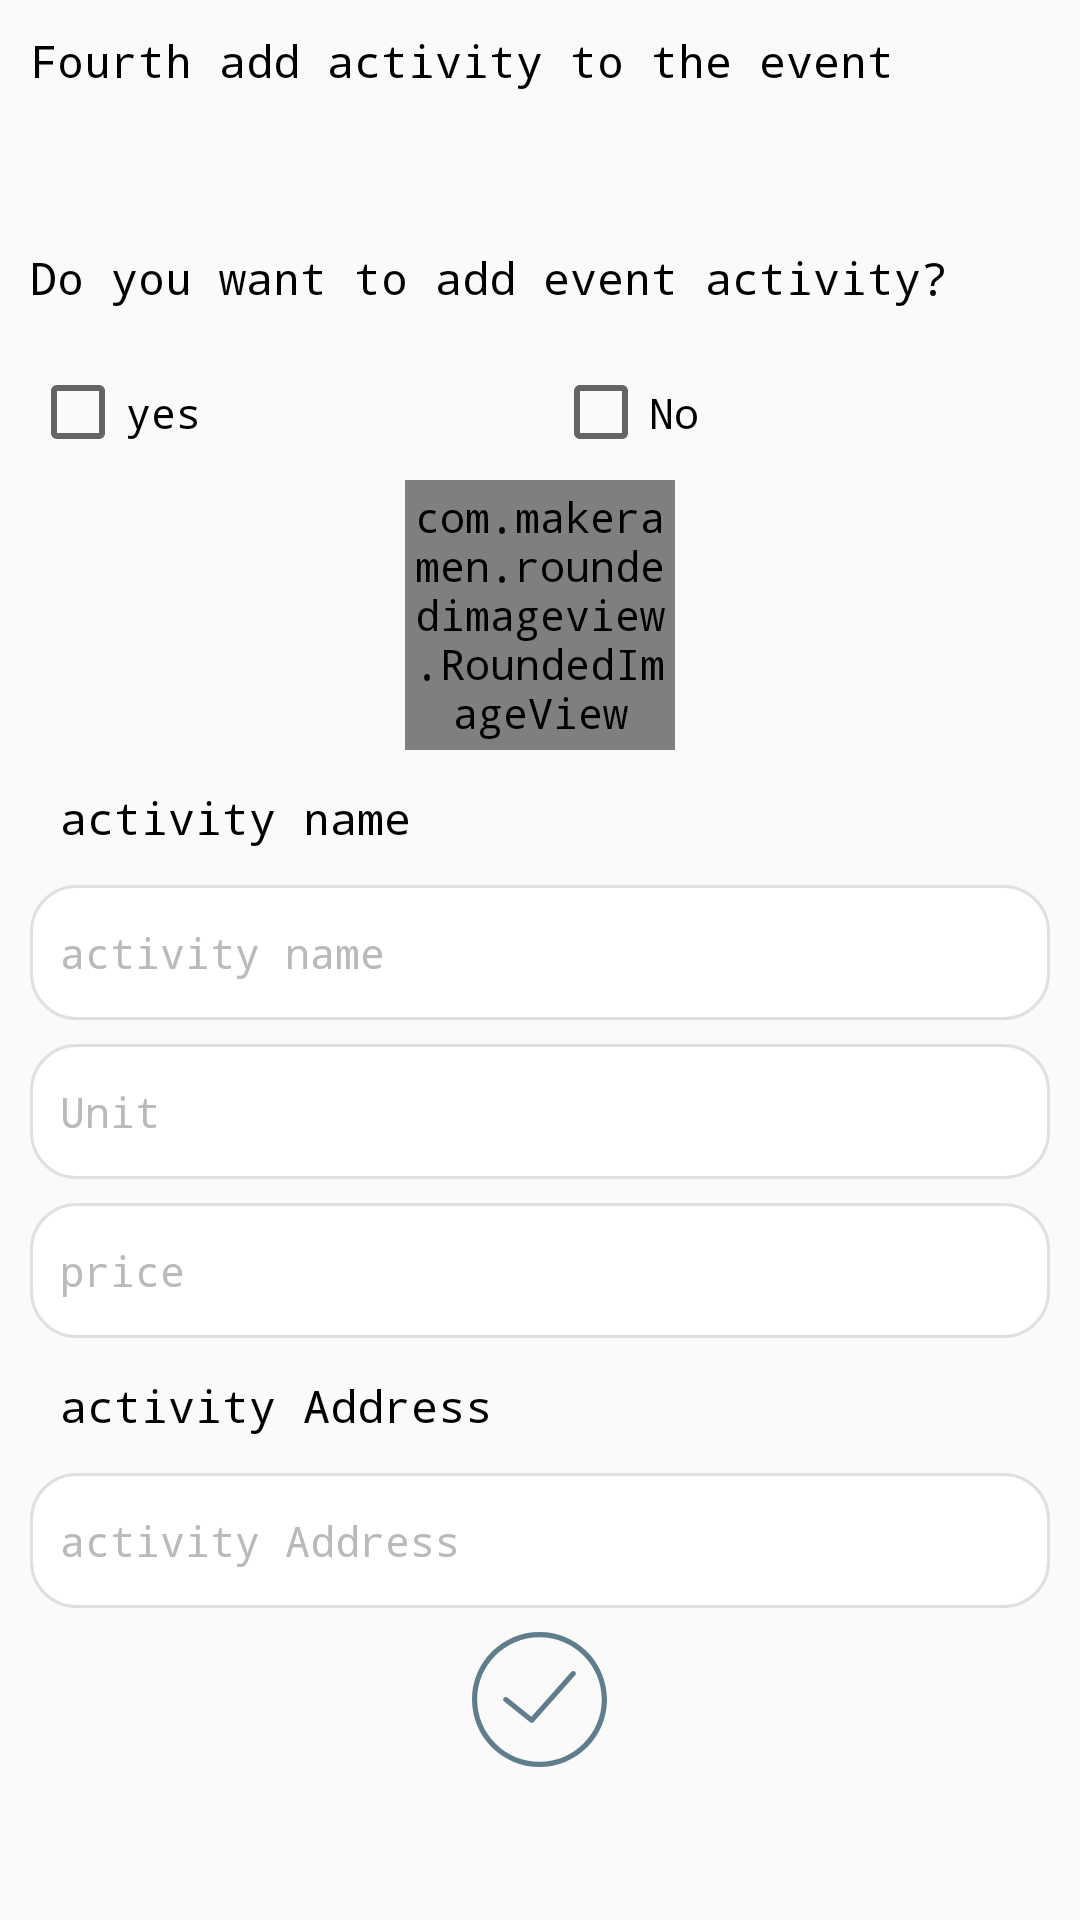

Named icons in this screenshot (1080*1920) and their bounding boxes, (x1, y1, x2, y2):
success: (472, 1632, 607, 1767)
